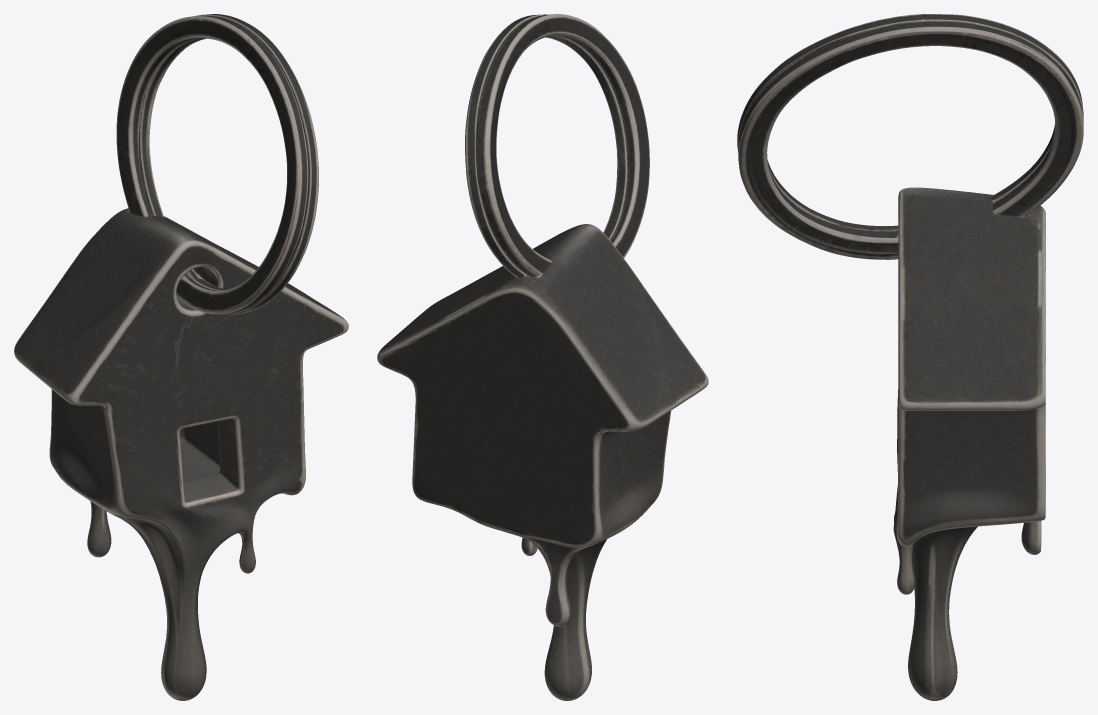
Rendered from house-keychain.glb.
3 renders of one model, left to right at view 1: azimuth 30°, elevation 25°; view 2: azimuth 150°, elevation 25°; view 3: azimuth 270°, elevation 25°, orthographic. The views are drawn at different scales.
Bounding box in the file's own units: 0.8408 × 1.9 × 0.8422.
1 material, 1 textured.
